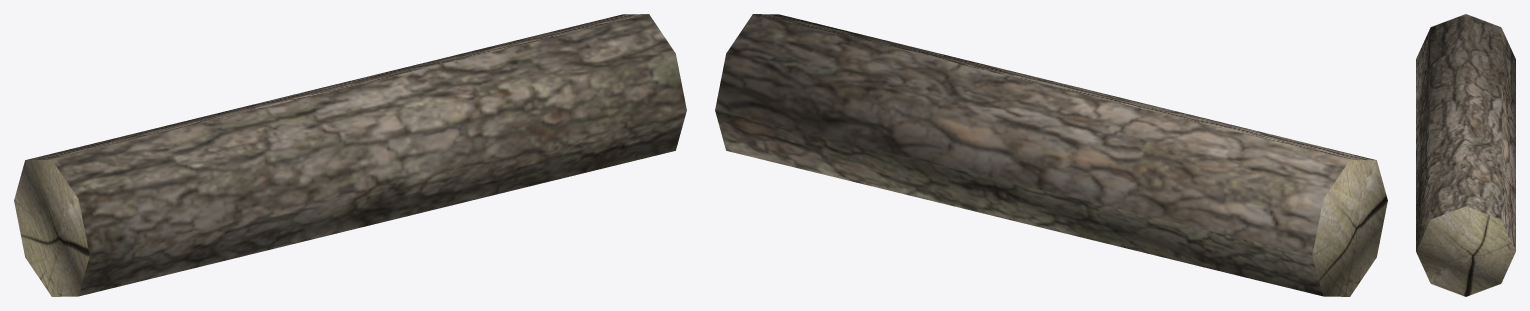
Rendered from TocoMadeira.fbx.
3 views of the same model, side by side, from view 1: azimuth 30°, elevation 25°; view 2: azimuth 150°, elevation 25°; view 3: azimuth 270°, elevation 25° (orthographic). The views are drawn at different scales.
Visible parts, largest first — view 1: TocoMadeira; view 2: TocoMadeira; view 3: TocoMadeira.
Boxes of the visible parts, x1,y1,x2,y2 form: TocoMadeira: (14, 14, 686, 296); TocoMadeira: (715, 14, 1387, 296); TocoMadeira: (1416, 14, 1515, 296).
Size of the model in its own units: 497 by 109 by 109.
